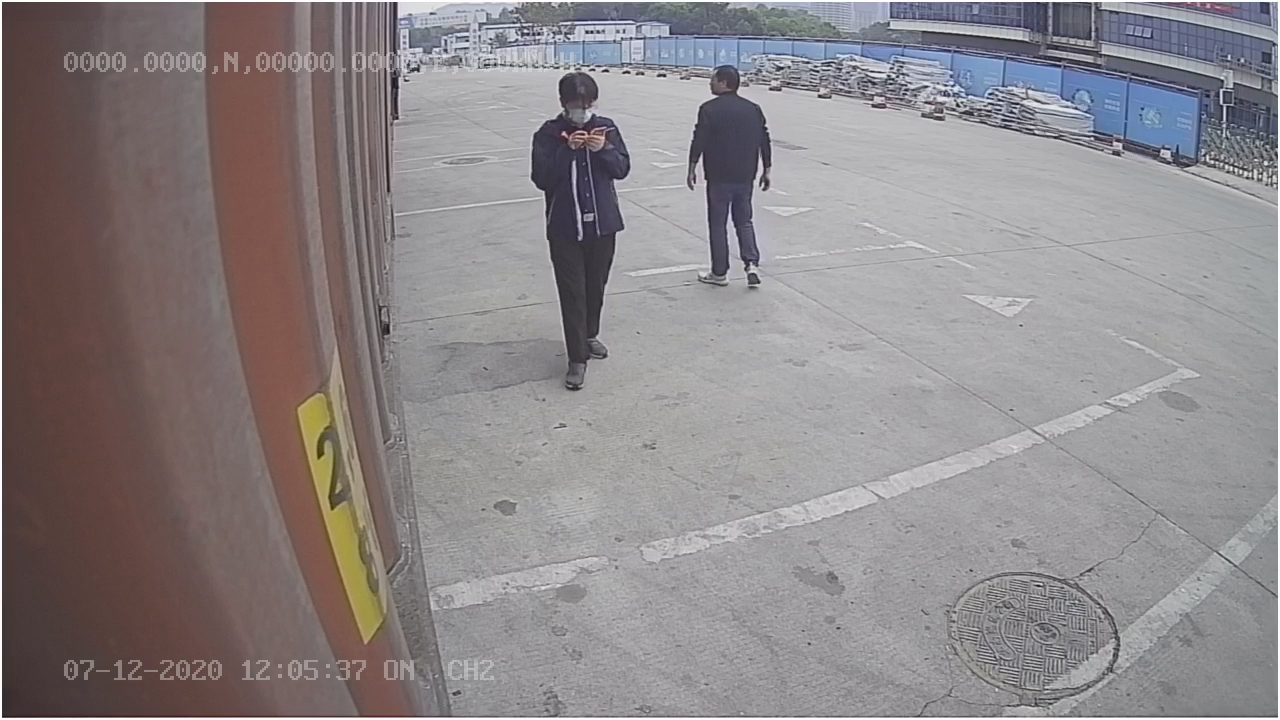person: (525, 72, 638, 394), (677, 57, 776, 293)
